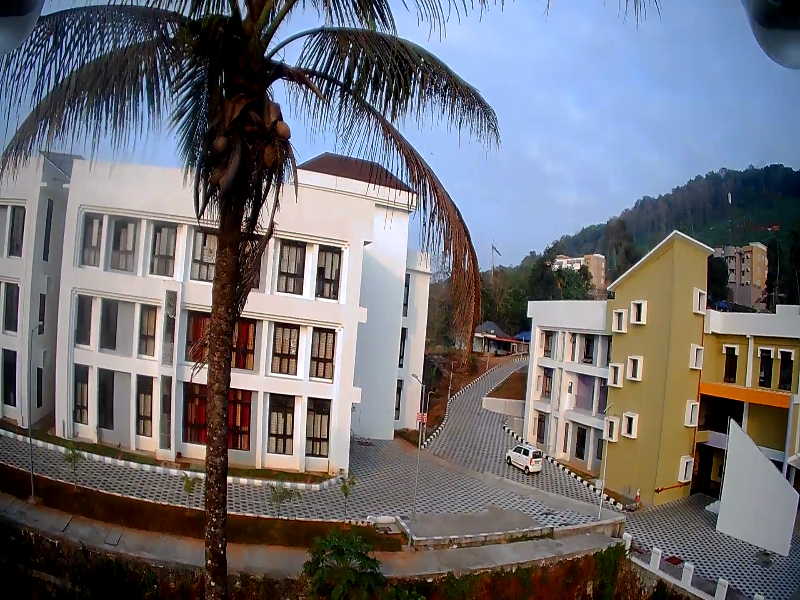coconut: (262, 147, 281, 171), (272, 120, 293, 140), (209, 169, 228, 186), (210, 134, 223, 146)
